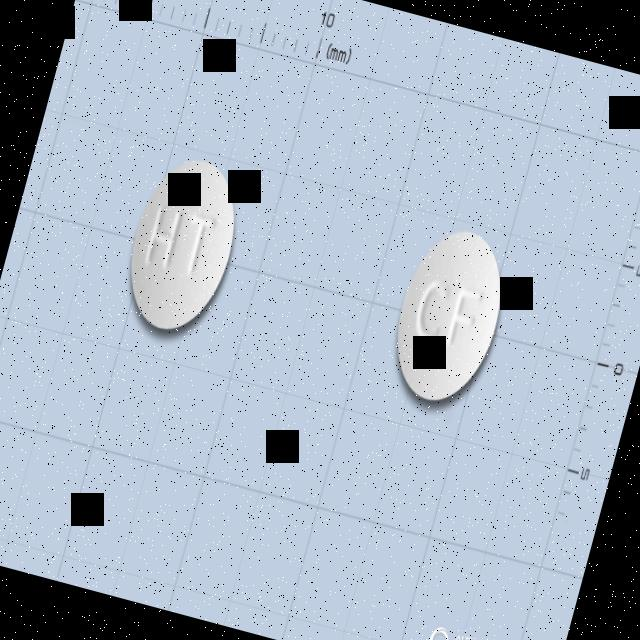Craproxin: (111, 146, 252, 341), (379, 218, 518, 412)
